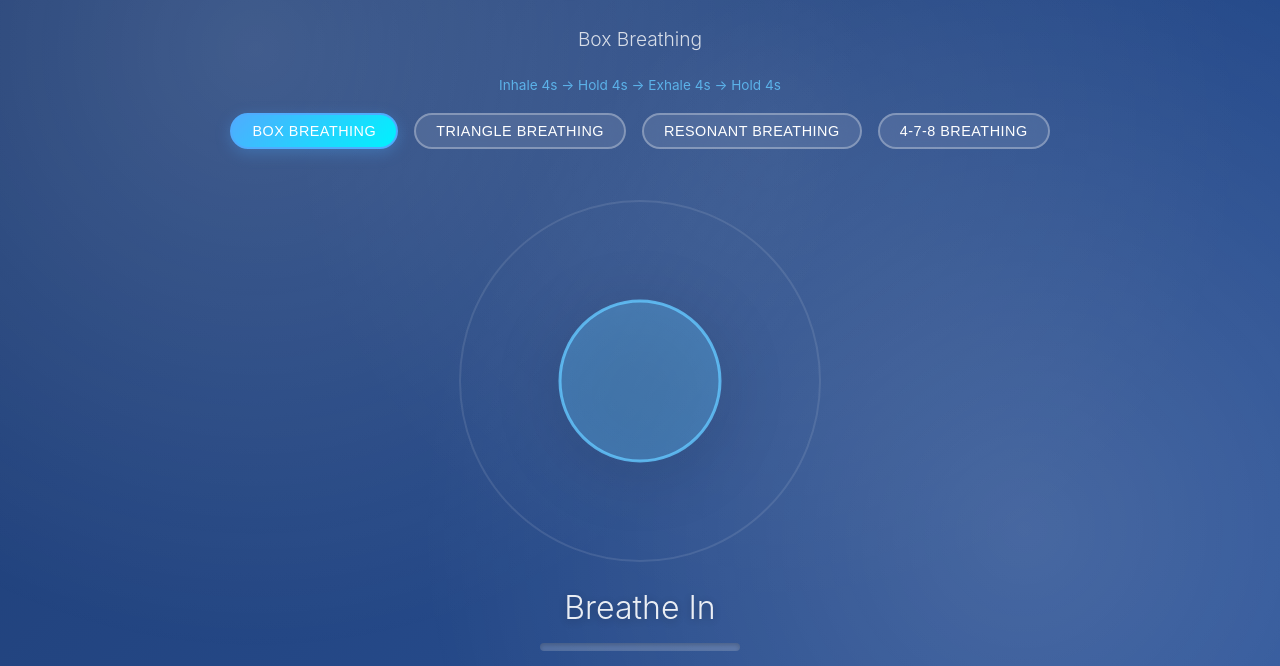
Test: Hush Breathing App - Core Functionality Tests › Breathing Exercise Switching › switches between different breathing exercises correctly
Note: Switch to Triangle Breathing
Click the button "Triangle Breathing": (520, 131) left=414, top=113, right=626, bottom=149
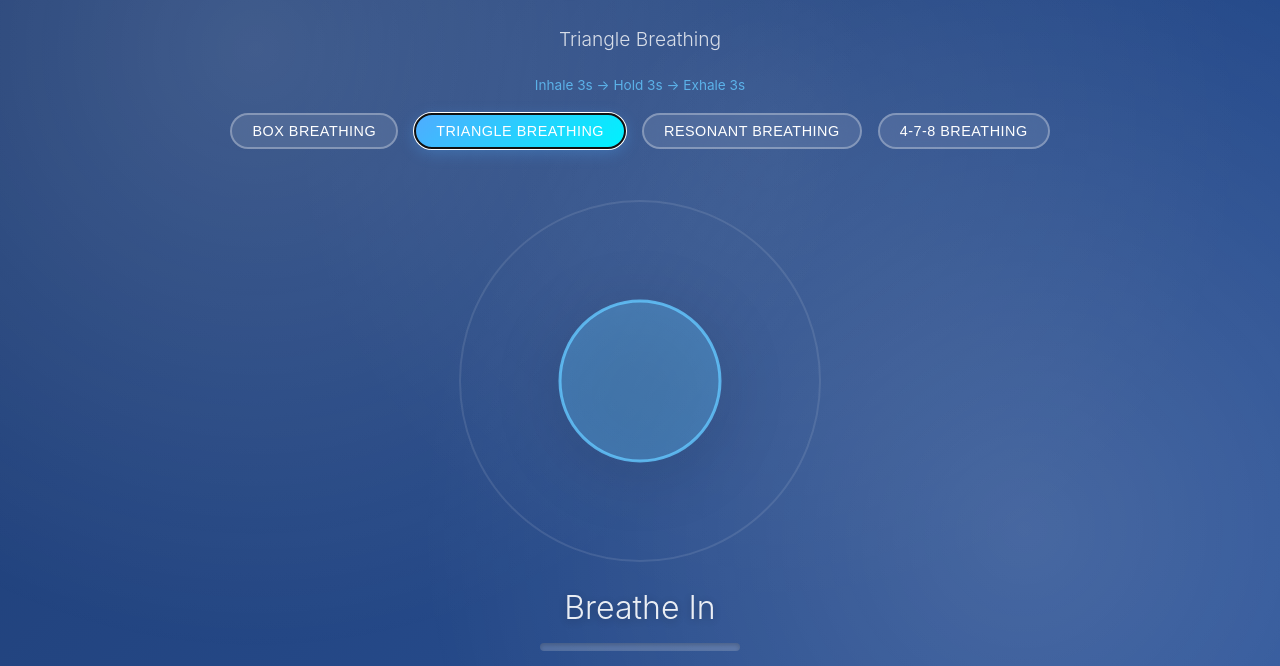
Expected: the text "Inhale 3s → Hold 3s → Exhale 3s" is shown, left=535, top=77, right=745, bottom=93
Note: Switch to Resonant Breathing
Click the button "Resonant Breathing": (752, 131) left=642, top=113, right=862, bottom=149
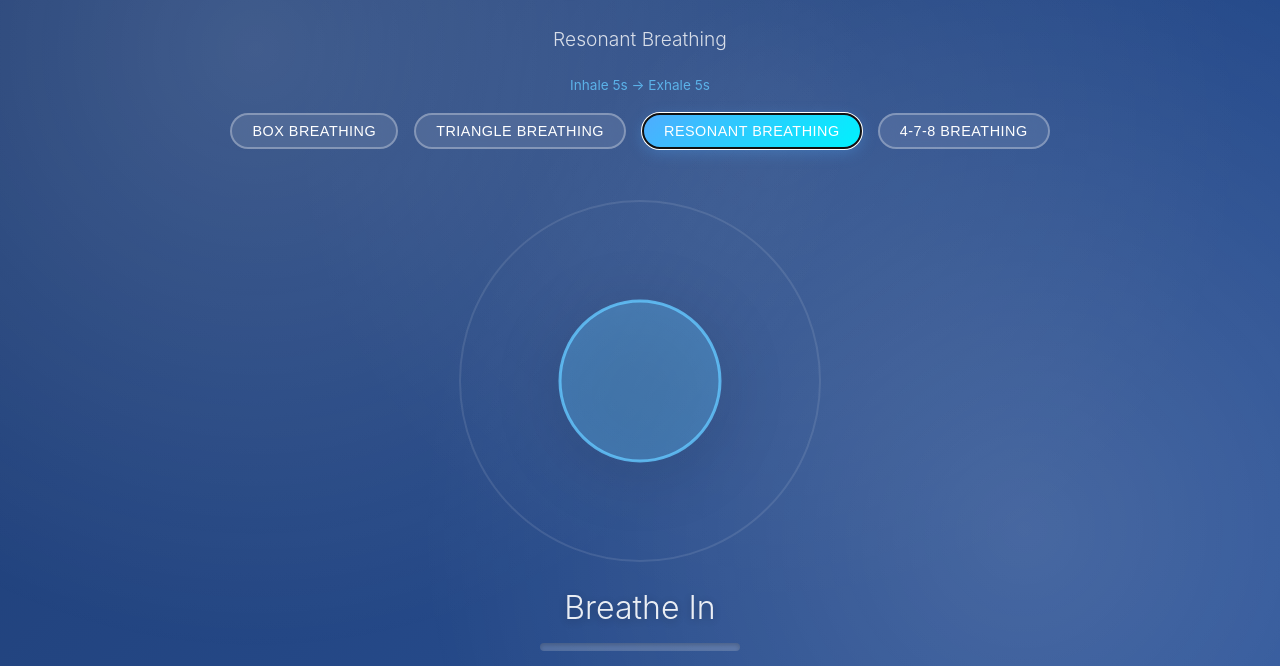
Expected: the text "Inhale 5s → Exhale 5s" is shown, left=570, top=77, right=710, bottom=93
Note: Switch to 4-7-8 Breathing
Click the button "4-7-8 Breathing": (964, 131) left=878, top=113, right=1050, bottom=149
(page scrolled)
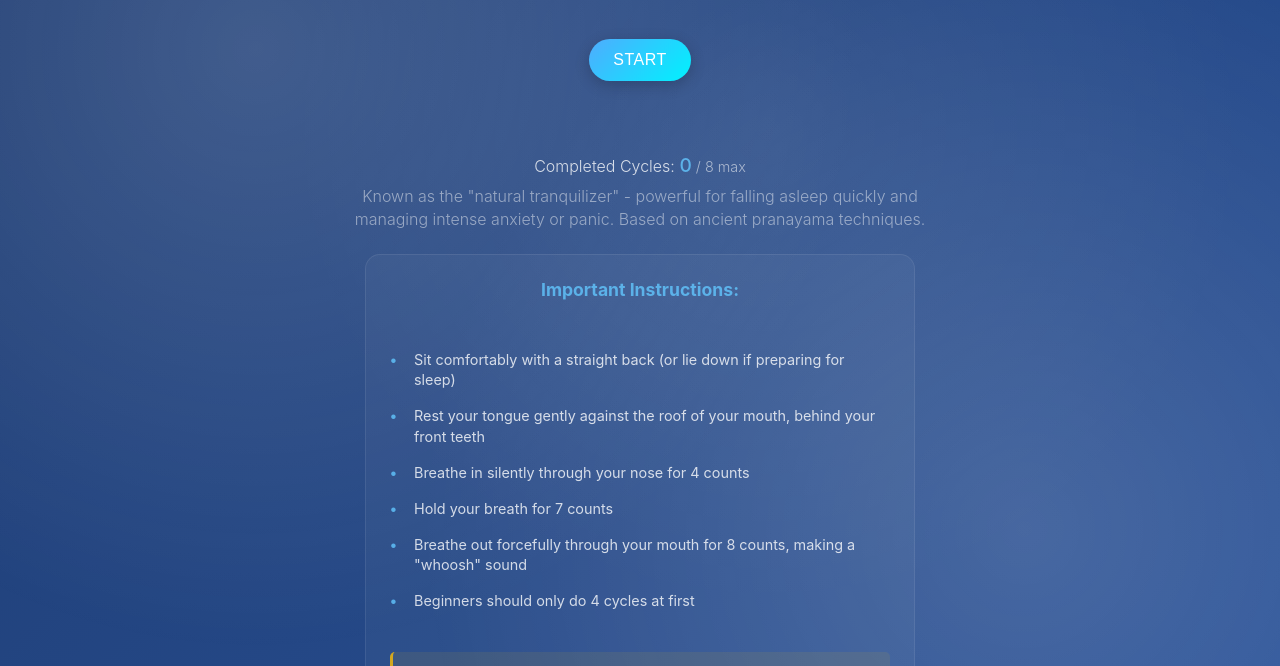
Expected: the heading "Important Instructions:" is shown, left=541, top=279, right=739, bottom=300
